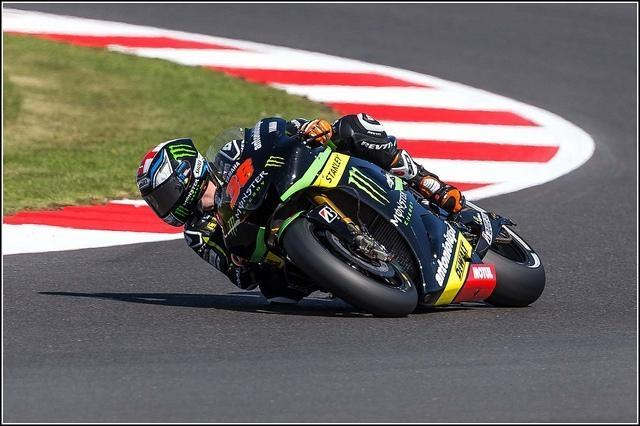motorcycle: (202, 117, 548, 316)
